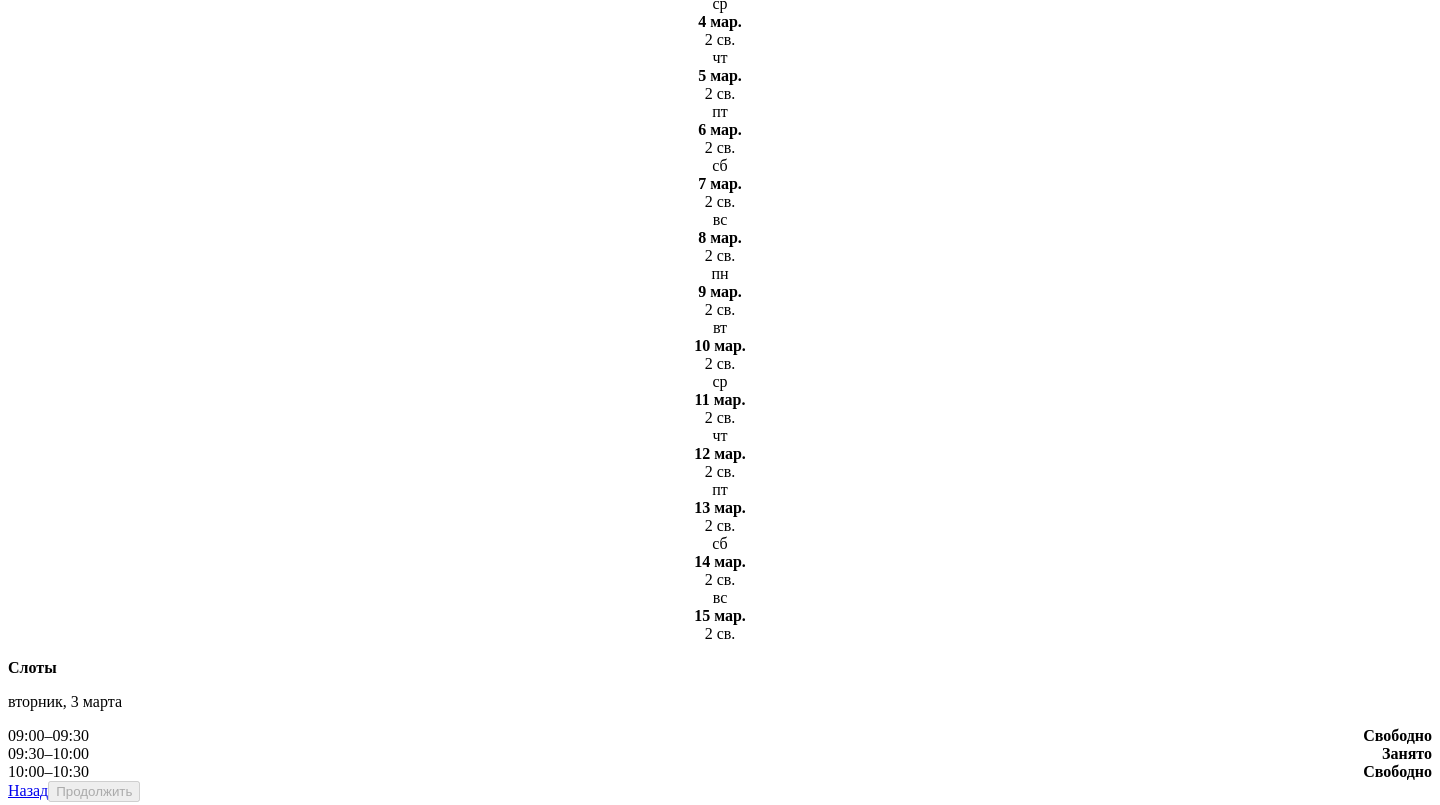
Test case: без слота продолжить нельзя, а форма не отправляется без имени и с некорректным email
(page scrolled)
Expected: the button "Продолжить" is disabled, [48, 781, 140, 802]
Step 1. Click the button "09:00–09:30 Свободно" → (48, 735), box [8, 727, 1432, 745]
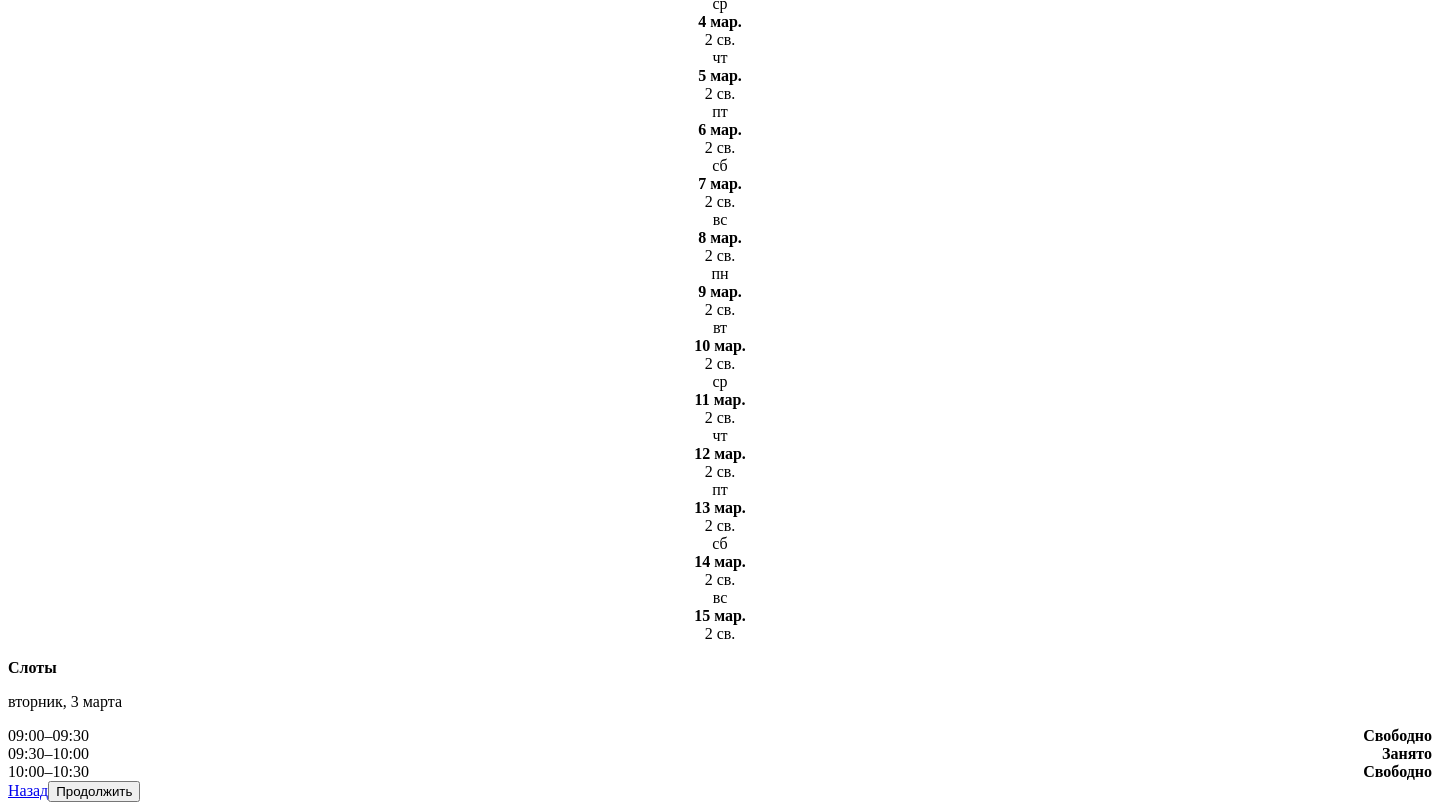
Step 2. Click the button "Продолжить" → (94, 791), box [48, 781, 140, 802]
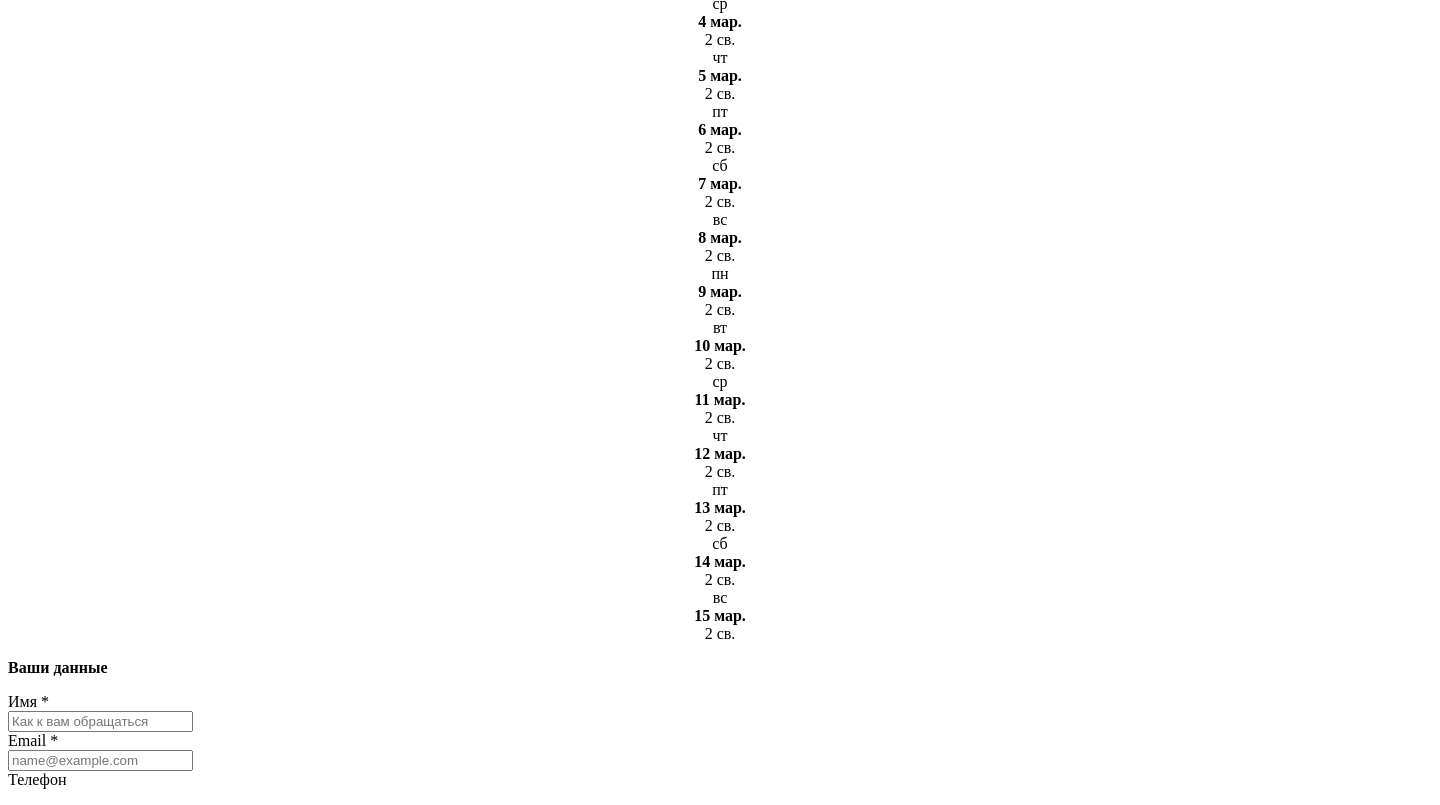
Step 3. Type "не-почта" into the field labelled "Email *" → (100, 760), box [8, 750, 193, 771]
(page scrolled)
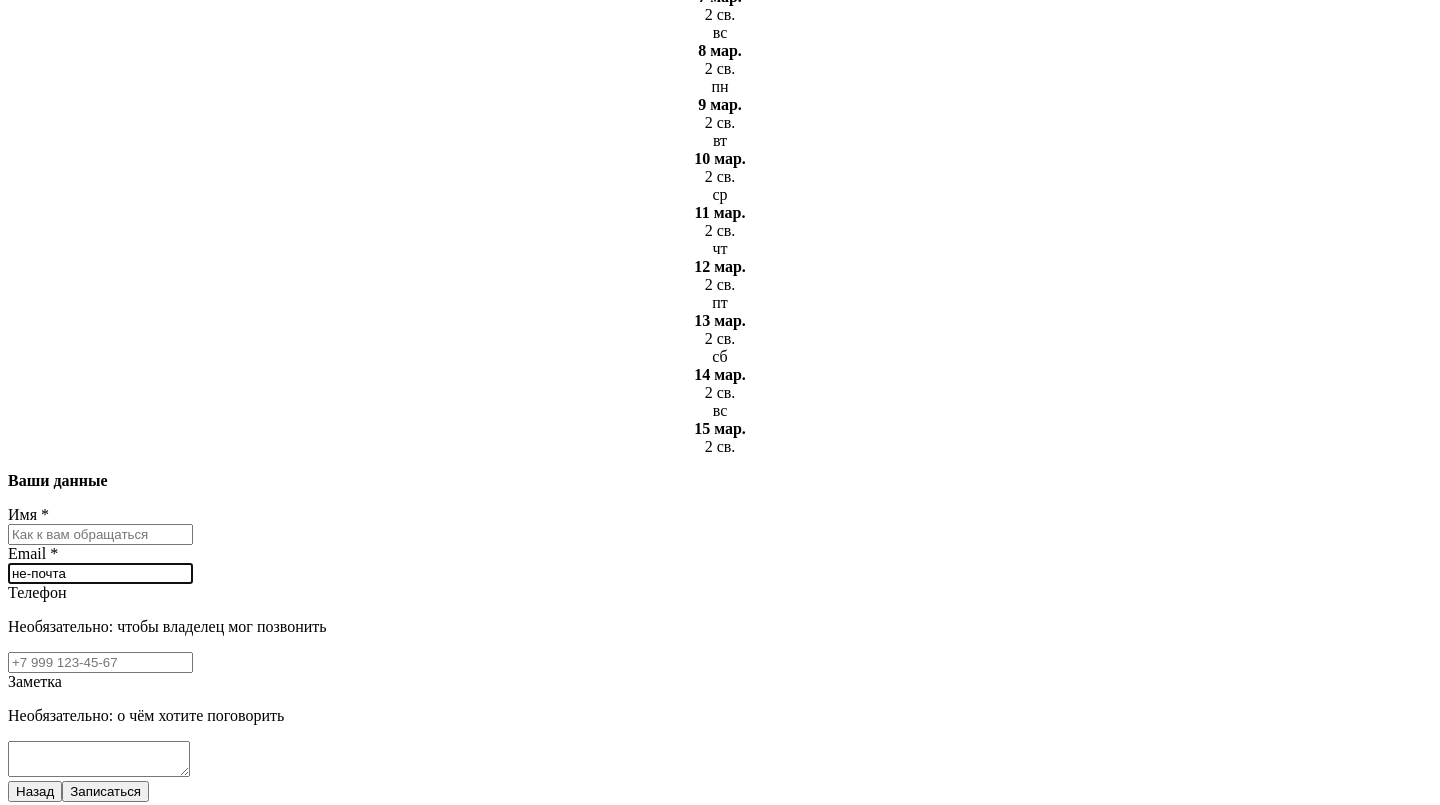
Step 4. Click the button "Записаться" → (106, 791), box [62, 781, 149, 802]
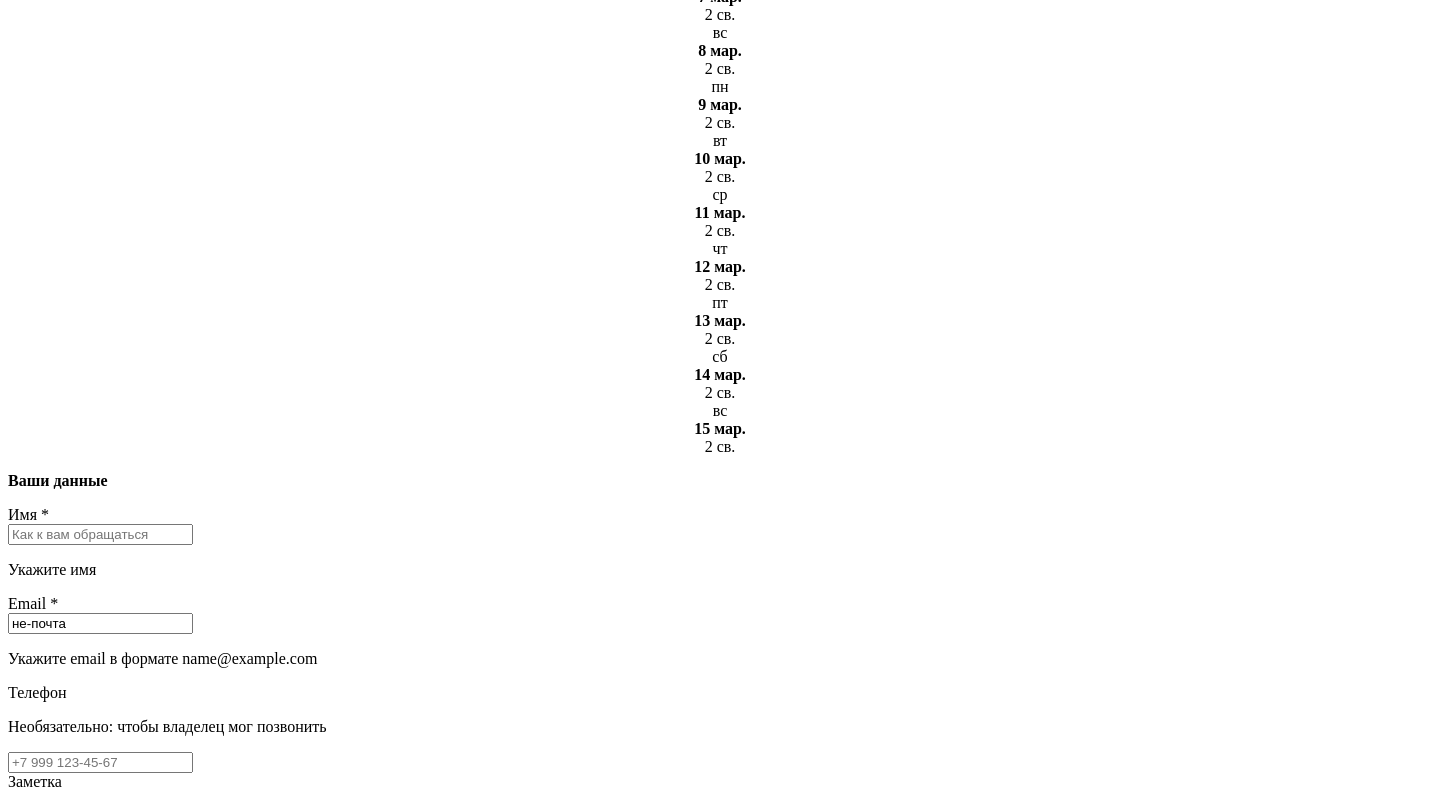
Result: the text "Укажите имя" is shown at [8, 561, 96, 578]
Result: the text "Укажите email в формате name@example.com" is shown at [8, 650, 317, 667]
